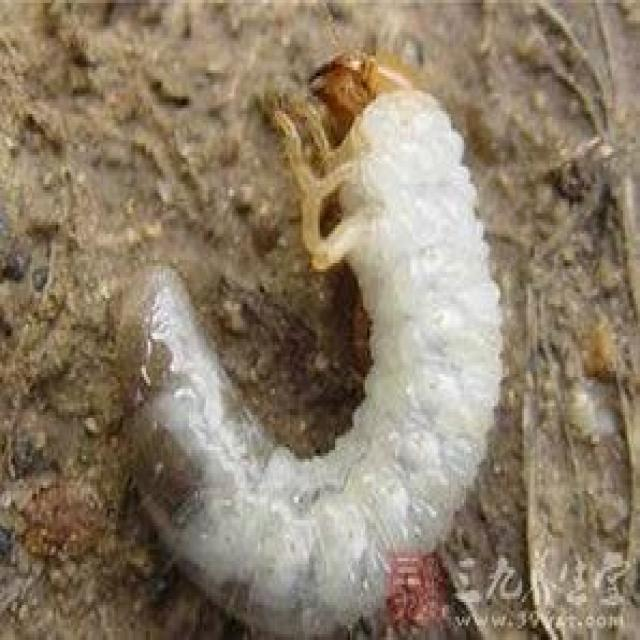grub: (111, 41, 527, 634)
